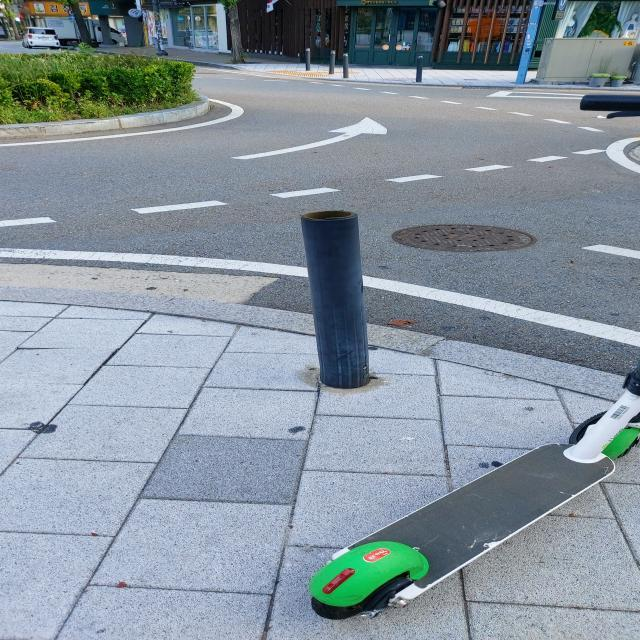pole: (300, 210, 368, 388)
